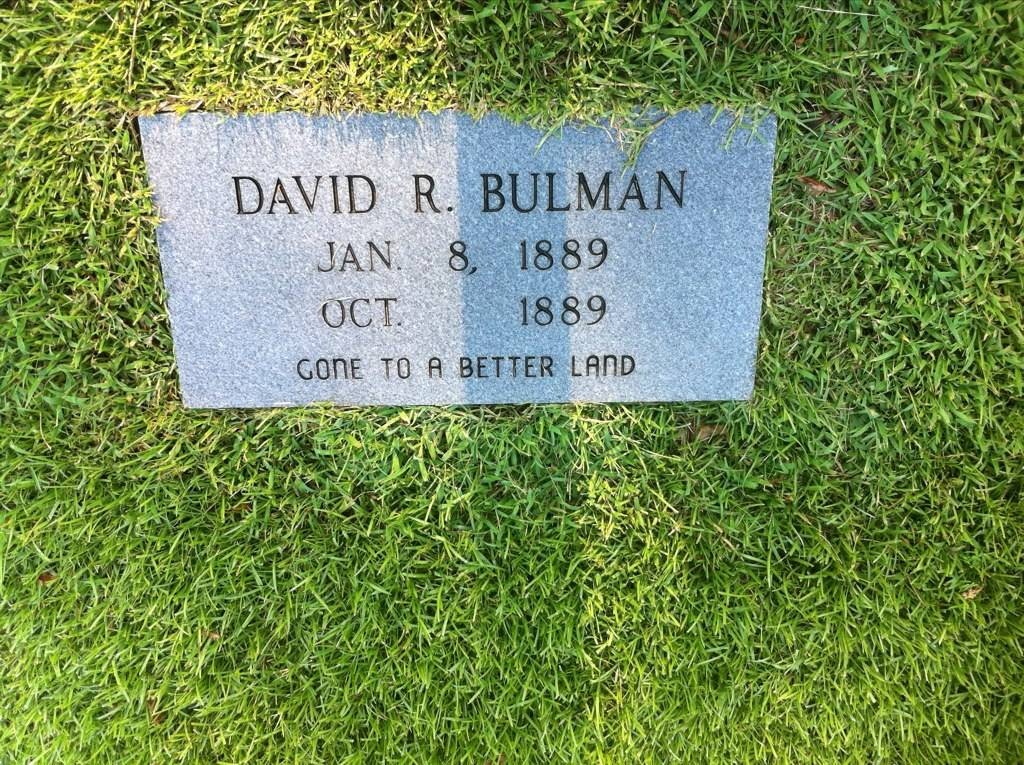flat: (129, 98, 781, 413)
